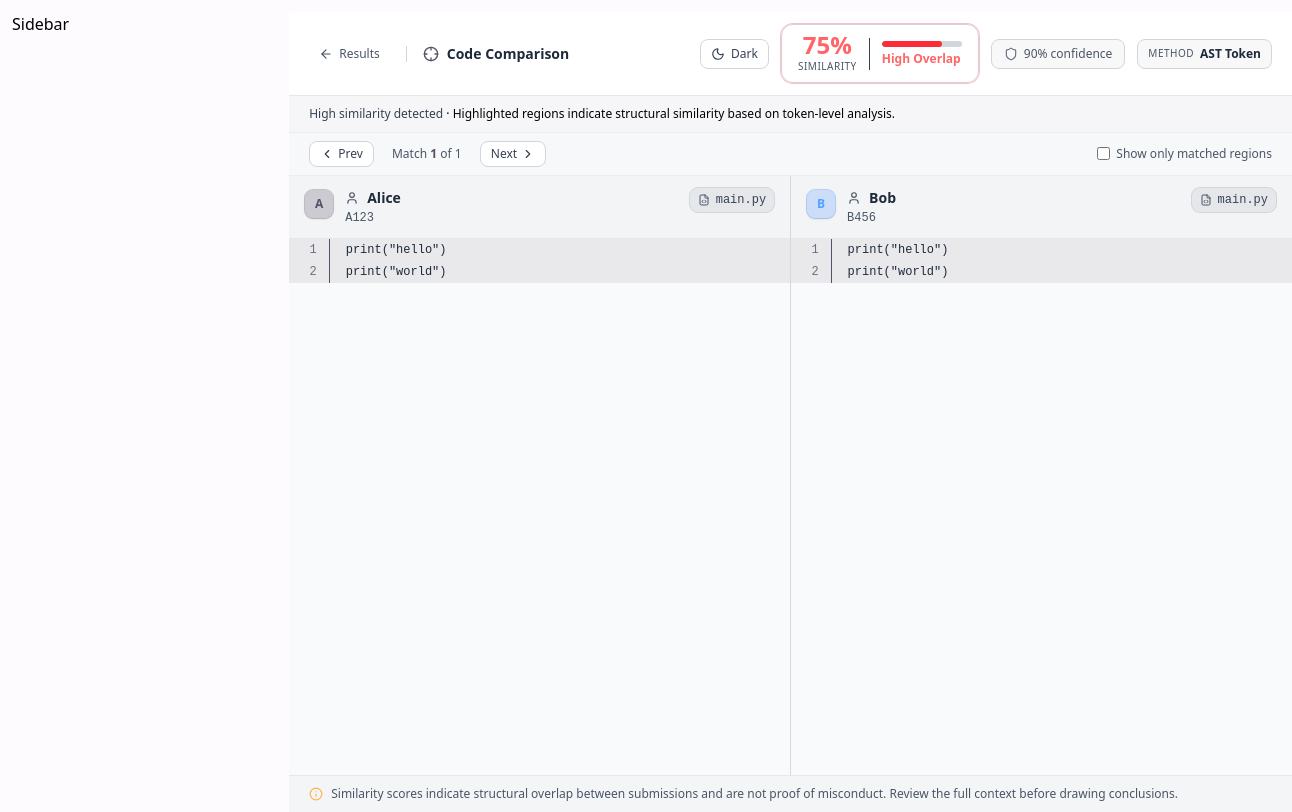
SimilarityComparisonPage › toggles to light theme when theme button is clicked
This screenshot has width=1292, height=812.
Expected: the text "75%" is shown, [803, 28, 852, 61]
Click the button "Dark" at coordinates (735, 54), box [700, 38, 769, 68]
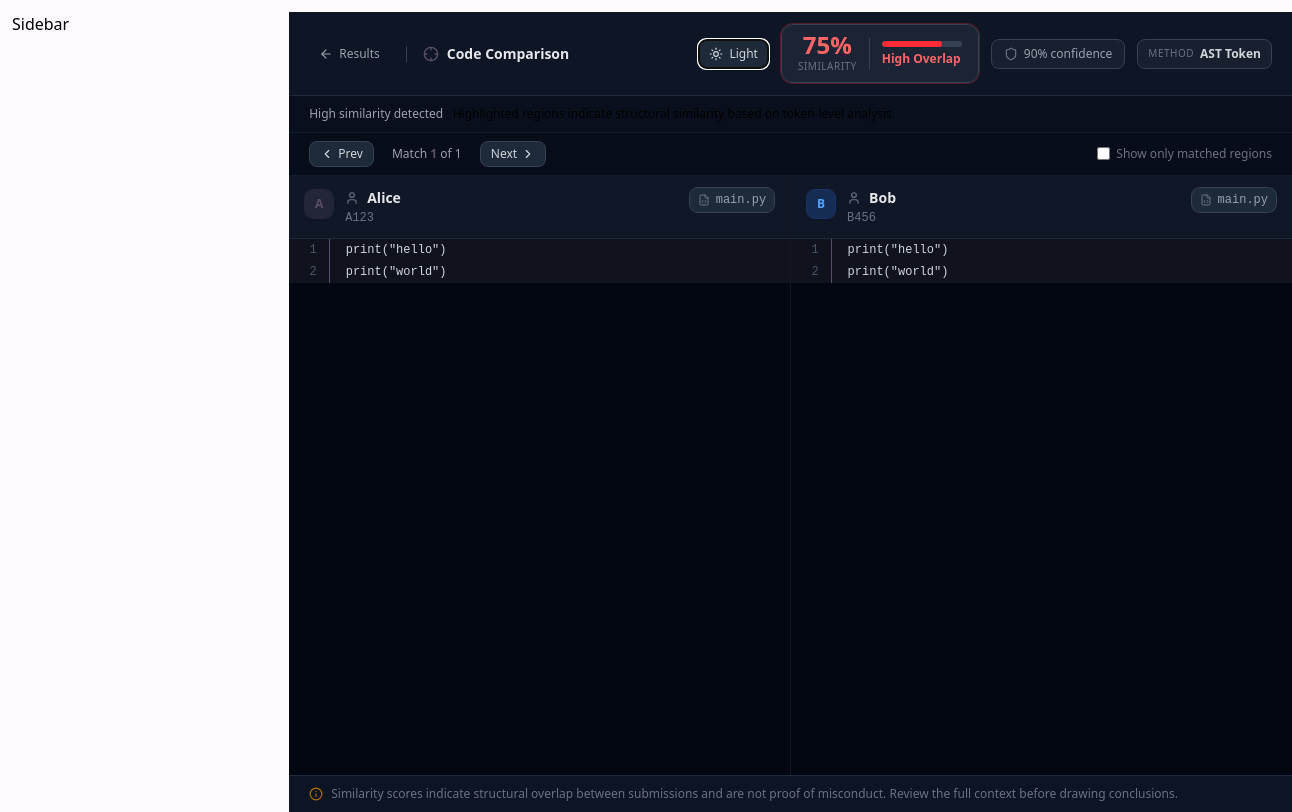
Expected: the button named "dark" reads "Light", [698, 38, 769, 68]
